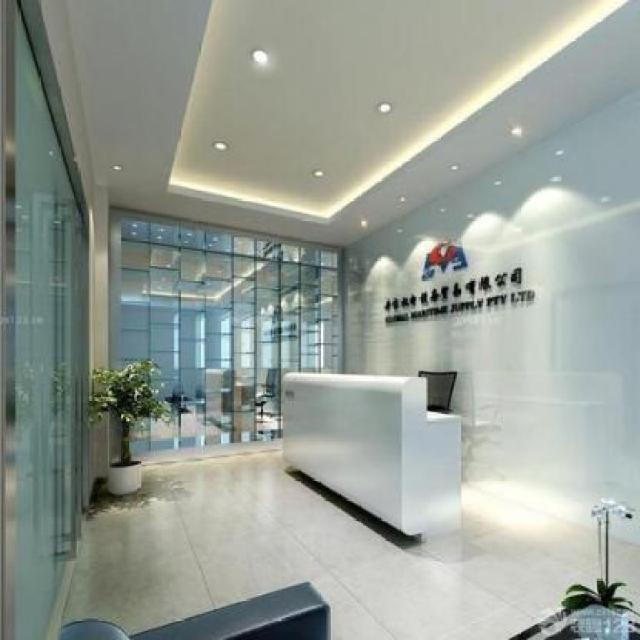frontdesk: (270, 358, 472, 554)
